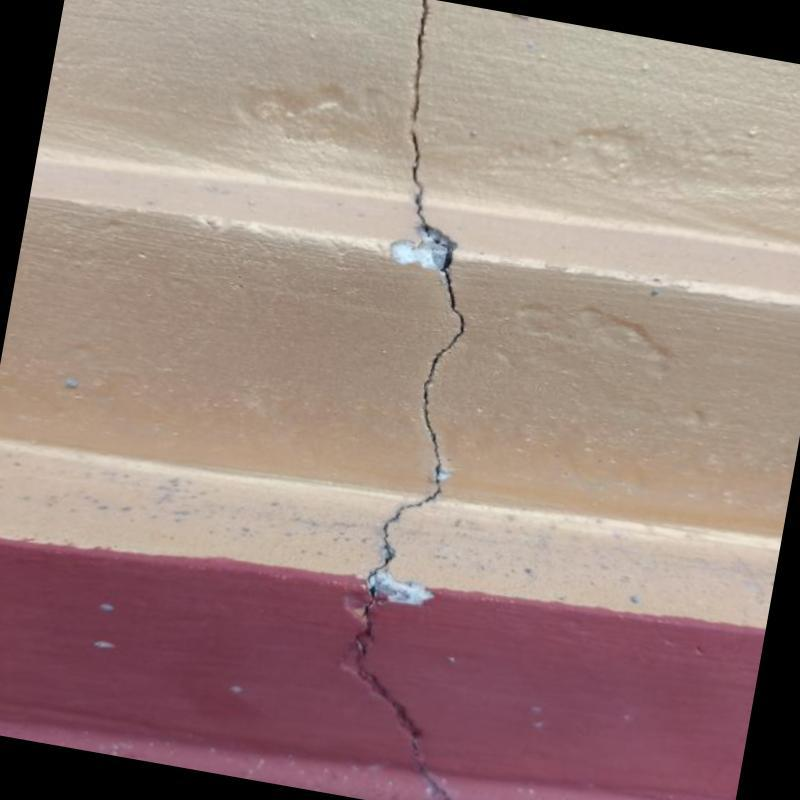crack: (355, 0, 465, 800)
